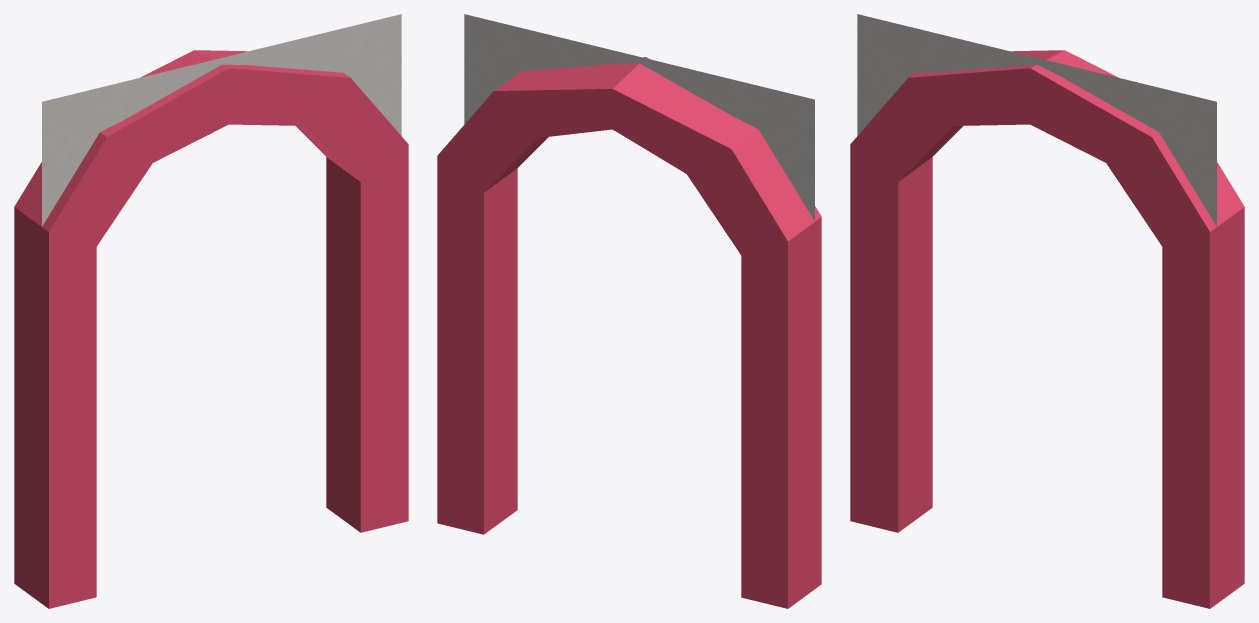
The model's file is DoorwayTemplate.glb.
3 renders of one model, left to right at view 1: azimuth 30°, elevation 25°; view 2: azimuth 150°, elevation 25°; view 3: azimuth 330°, elevation 25°, orthographic. The views are drawn at different scales.
Visible parts, largest first — view 1: Doorway(ExportTHIS); view 2: Doorway(ExportTHIS); view 3: Doorway(ExportTHIS).
Part boxes in pixels (x1,y1,x2,y2): Doorway(ExportTHIS): (14, 14, 408, 608); Doorway(ExportTHIS): (437, 14, 821, 608); Doorway(ExportTHIS): (850, 14, 1244, 608).
Bounding box in the file's own units: 3 × 4 × 0.5.
Materials: 2 (1 with a texture image).
